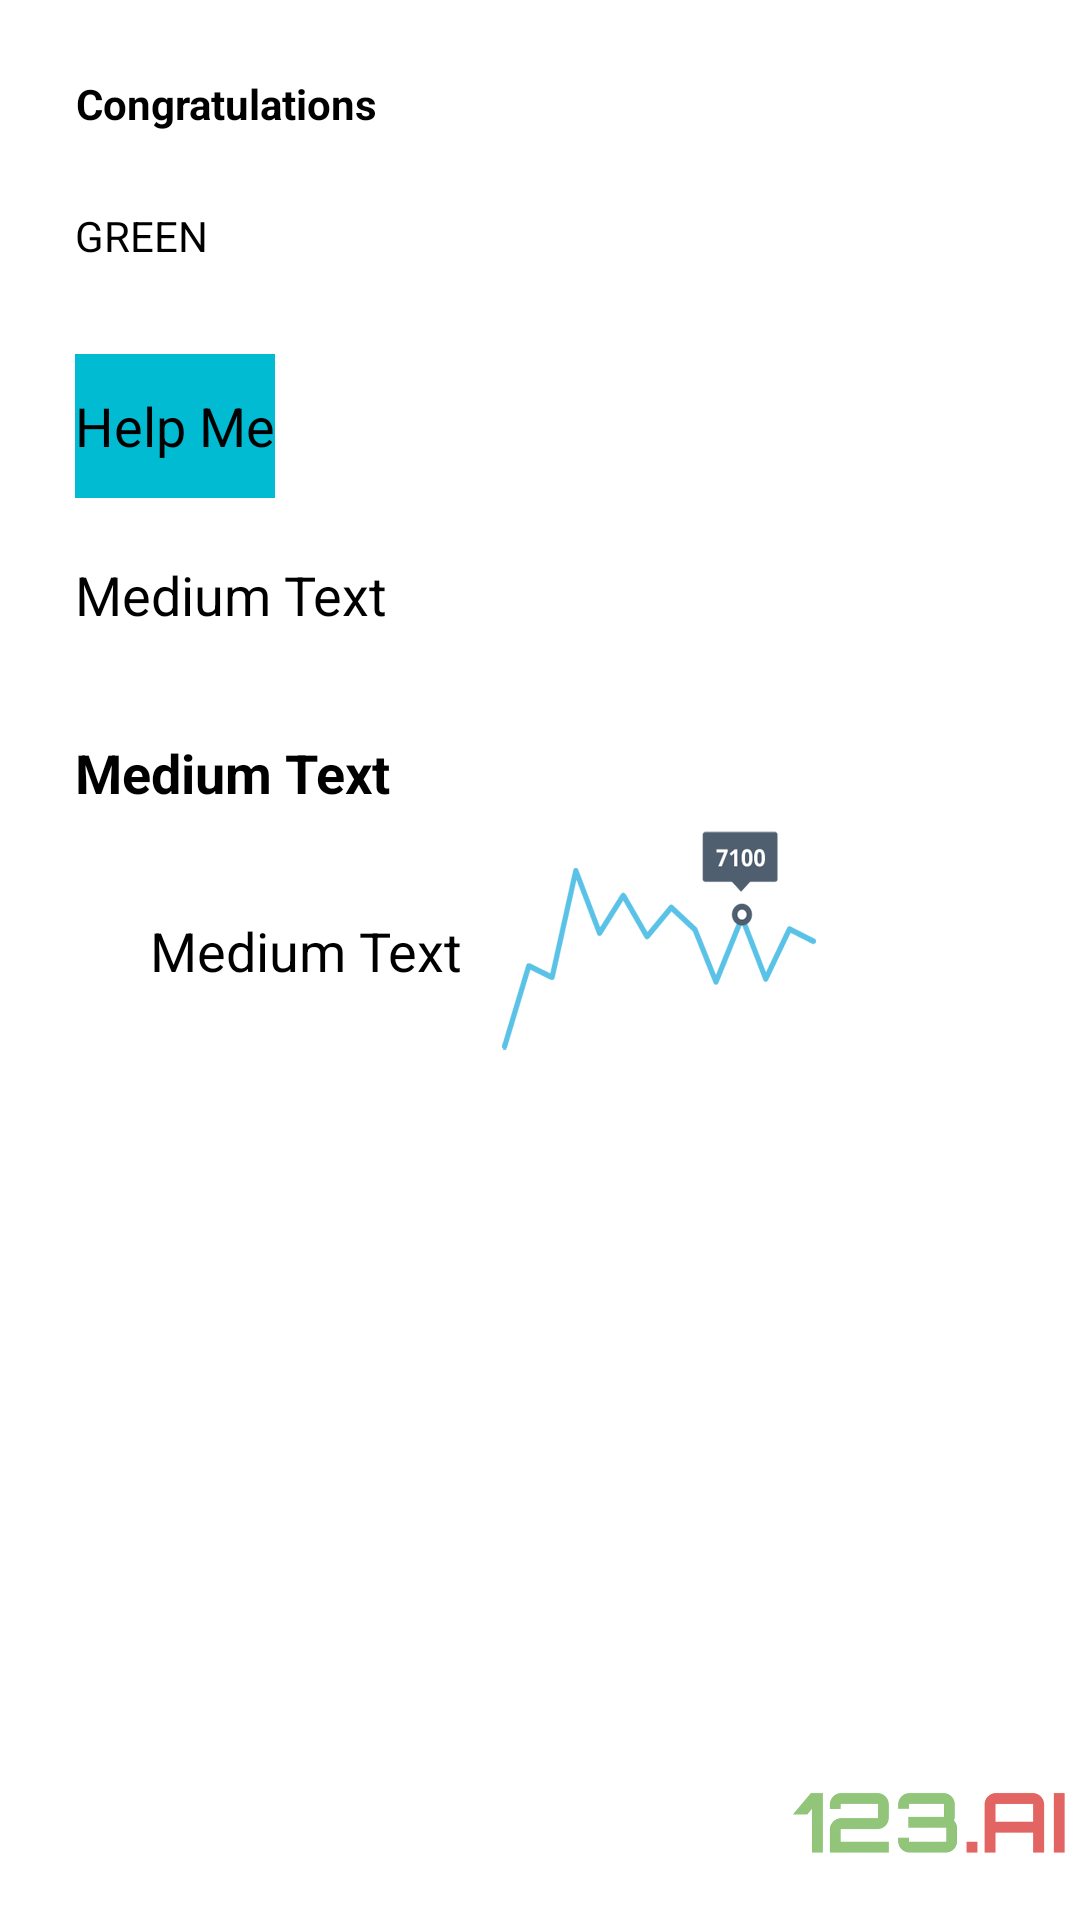

Icons on this 1080 × 1920 Android screen, each with its box as (x1, y1, x2, y2):
graph count: (502, 831, 816, 1050)
